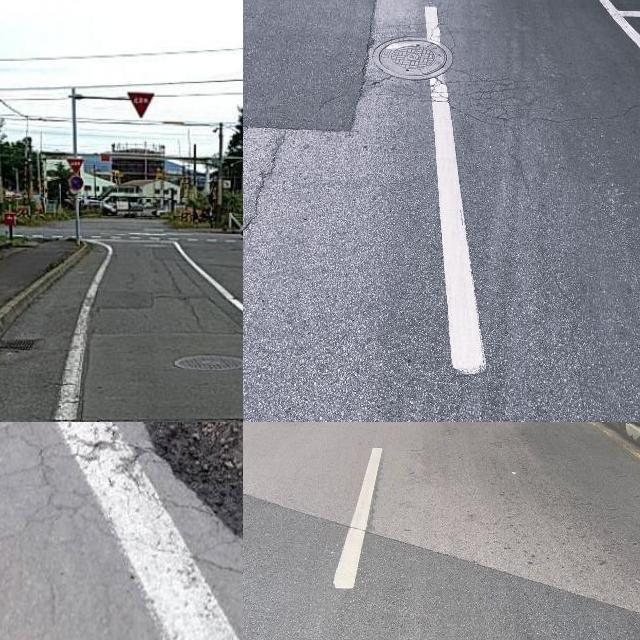Lubang: (374, 35, 454, 78)
Memanjang: (243, 133, 303, 273)
Sambungan: (243, 491, 640, 640), (243, 0, 375, 132)
